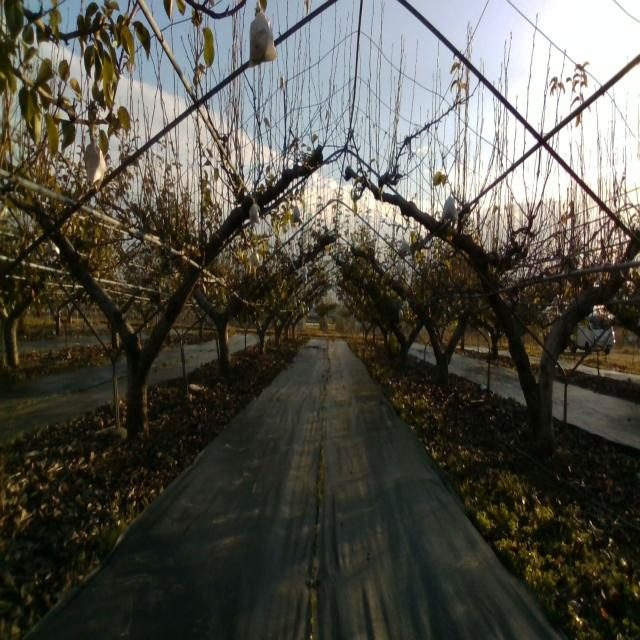pearbags: (248, 0, 277, 68), (84, 142, 106, 194), (440, 195, 459, 223), (248, 198, 260, 224)
